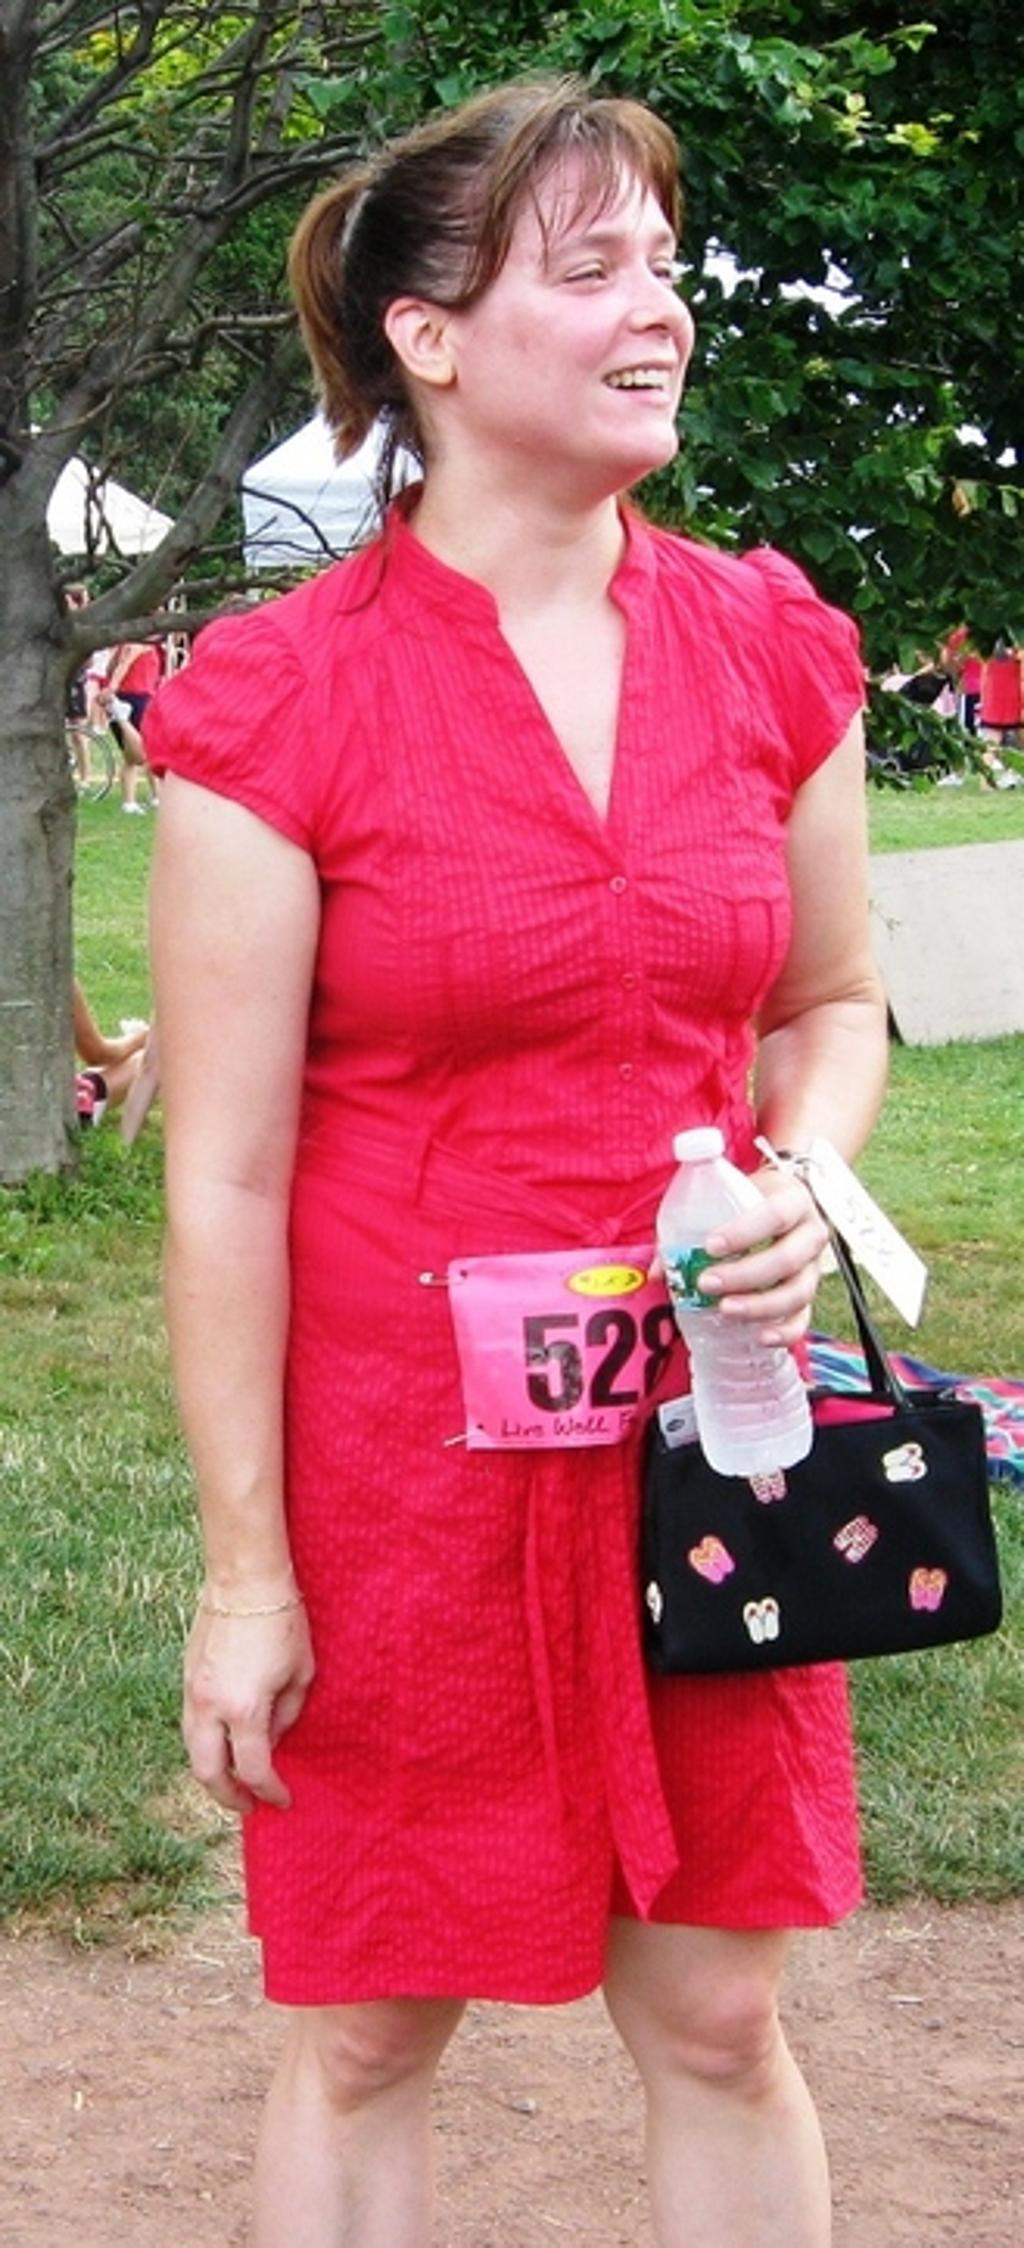face: (461, 123, 690, 466)
